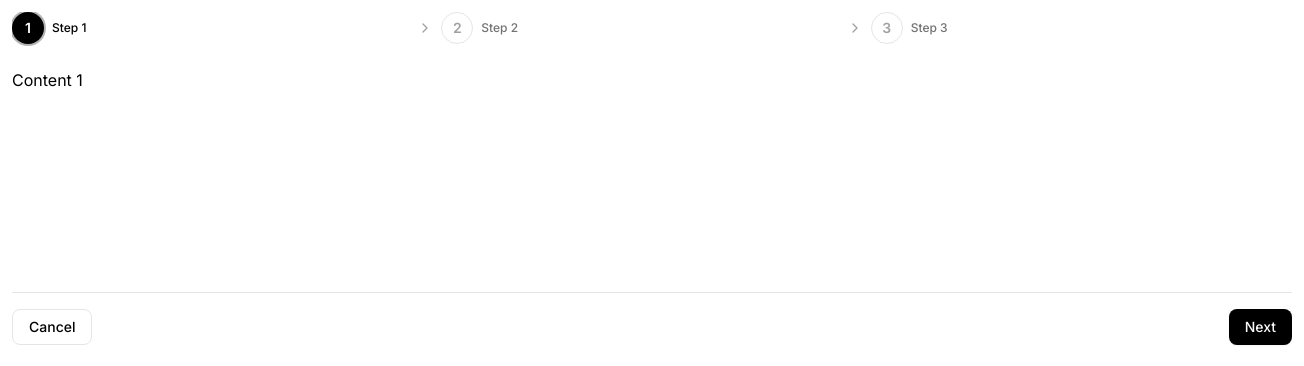
FormWizard › jumps back to done step when clicking step indicator
Click the button "Next".
click(1260, 327)  # box [1229,309,1292,345]
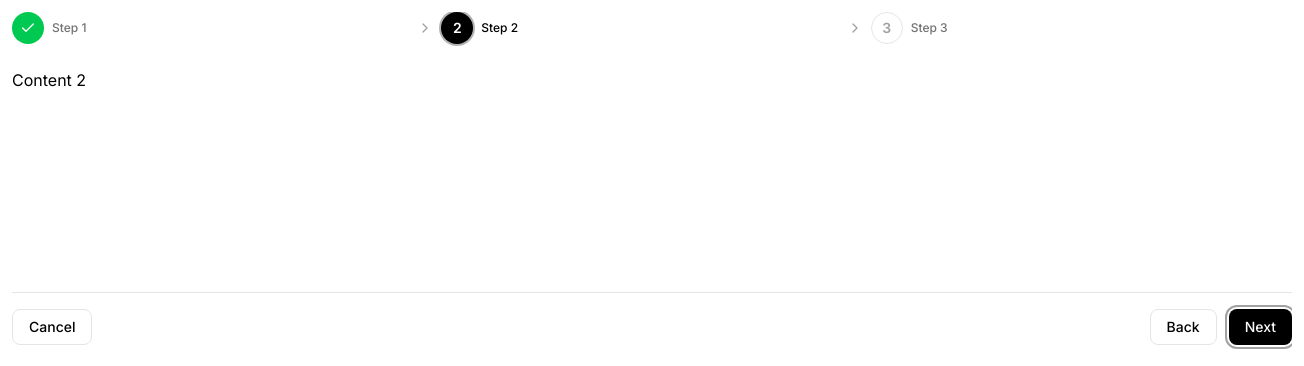
Result: the text "Content 2" is shown at [12,70,86,90]
Click the button "Next".
click(1260, 327)  # box [1229,309,1292,345]
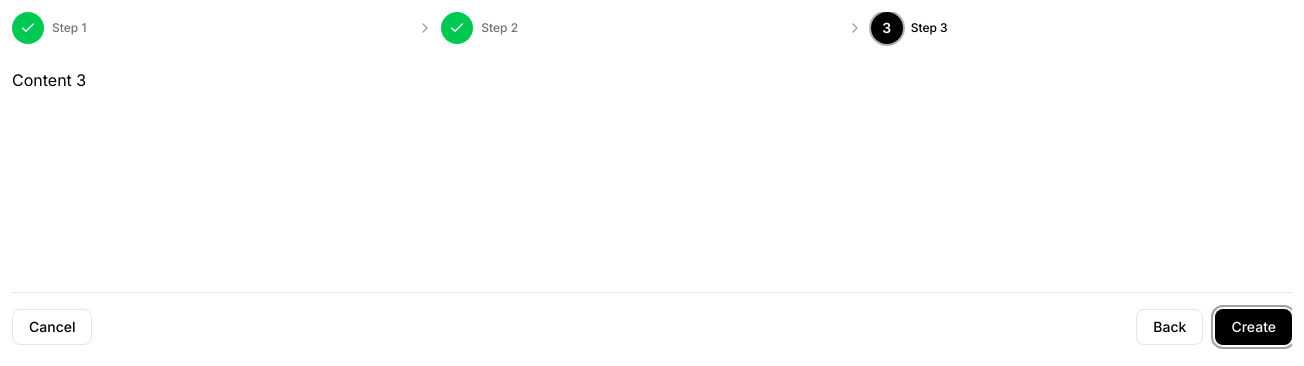
Result: the text "Content 3" is shown at [12,70,86,90]
Click the button without text next to "Step 1".
click(28, 28)  # box [12,12,44,44]
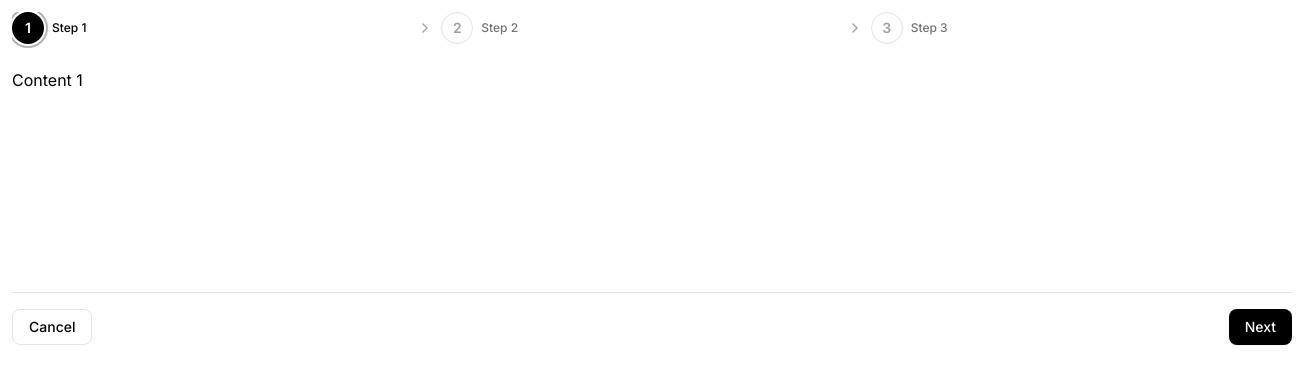
Result: the text "Content 1" is shown at [12,70,83,90]
